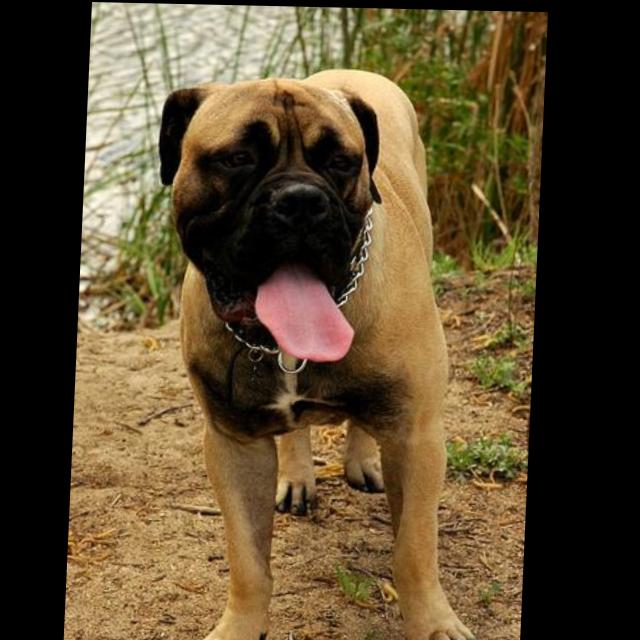bullmastiff: (143, 62, 512, 640)
